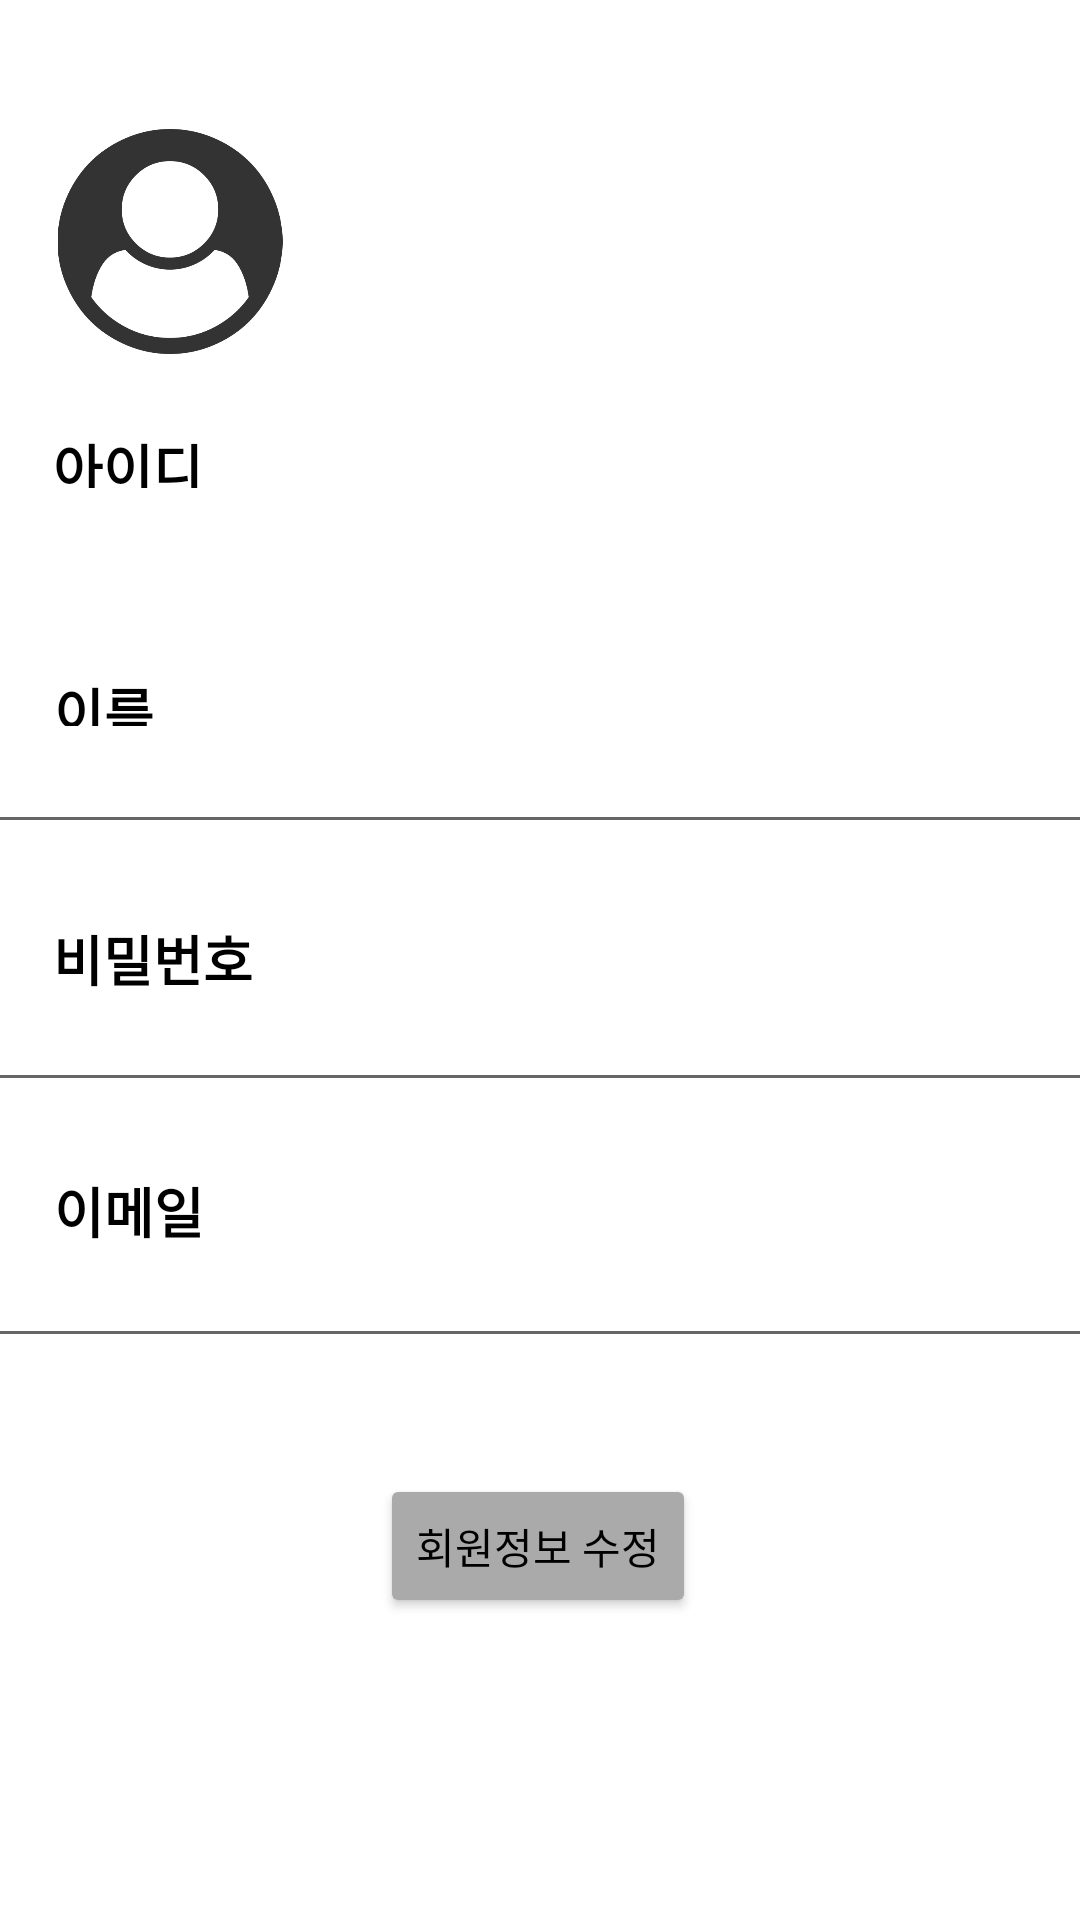

Where icons sit on this 1080w x 1920h app screen, as (x1, y1, x2, y2):
empty user: (58, 129, 283, 354)
